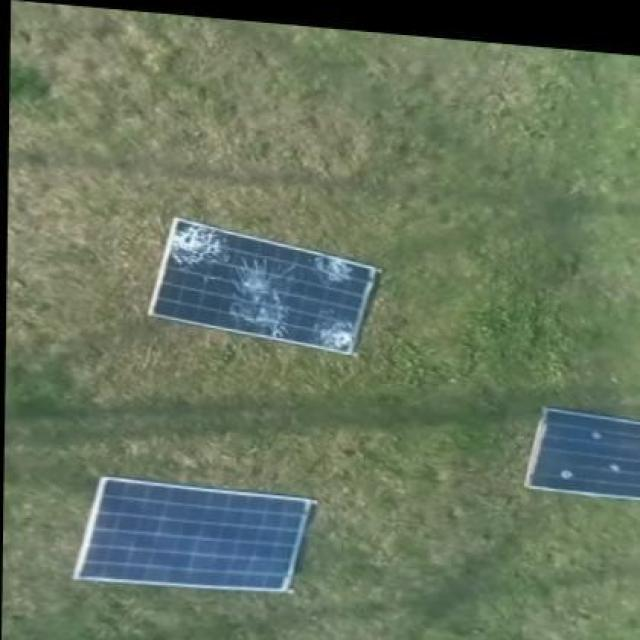cracked: (145, 218, 384, 355)
soiled: (524, 404, 640, 514)
